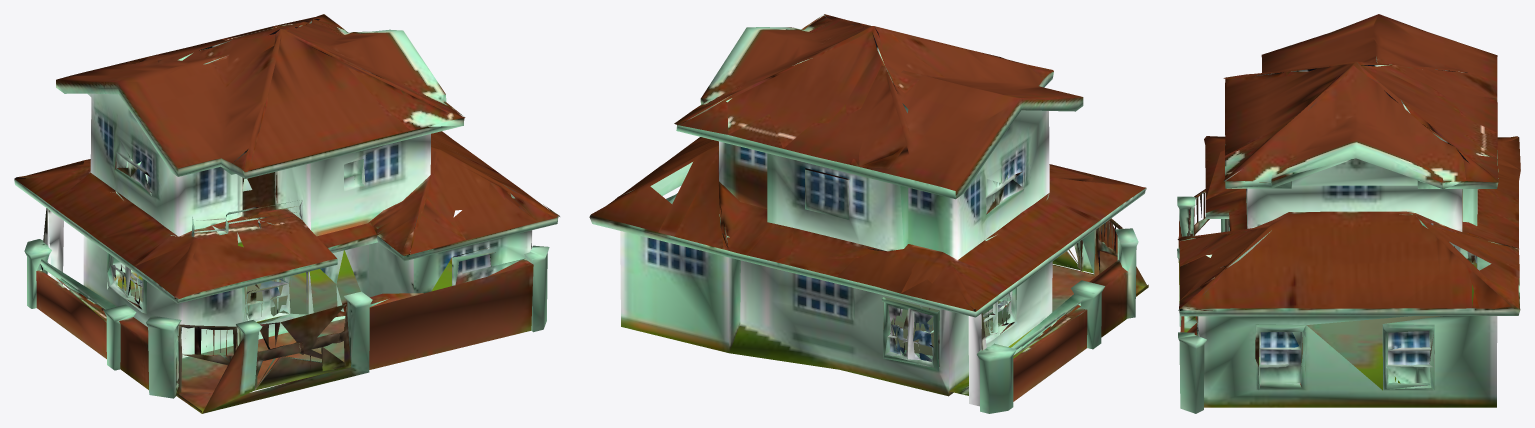
Rendered from house-mint.glb.
The picture shows the model from 3 angles, left to right: view 1: azimuth 30°, elevation 25°; view 2: azimuth 150°, elevation 25°; view 3: azimuth 270°, elevation 25°; orthographic projection. The views are drawn at different scales.
Visible parts, largest first — view 1: house; view 2: house; view 3: house.
Part boxes in pixels (left/top/right/bottom): house: left=14, top=14, right=559, bottom=413; house: left=589, top=14, right=1148, bottom=413; house: left=1177, top=14, right=1520, bottom=413.
Bounding box in the file's own units: 11 × 7.6 × 8.88.
1 material, 1 textured.
